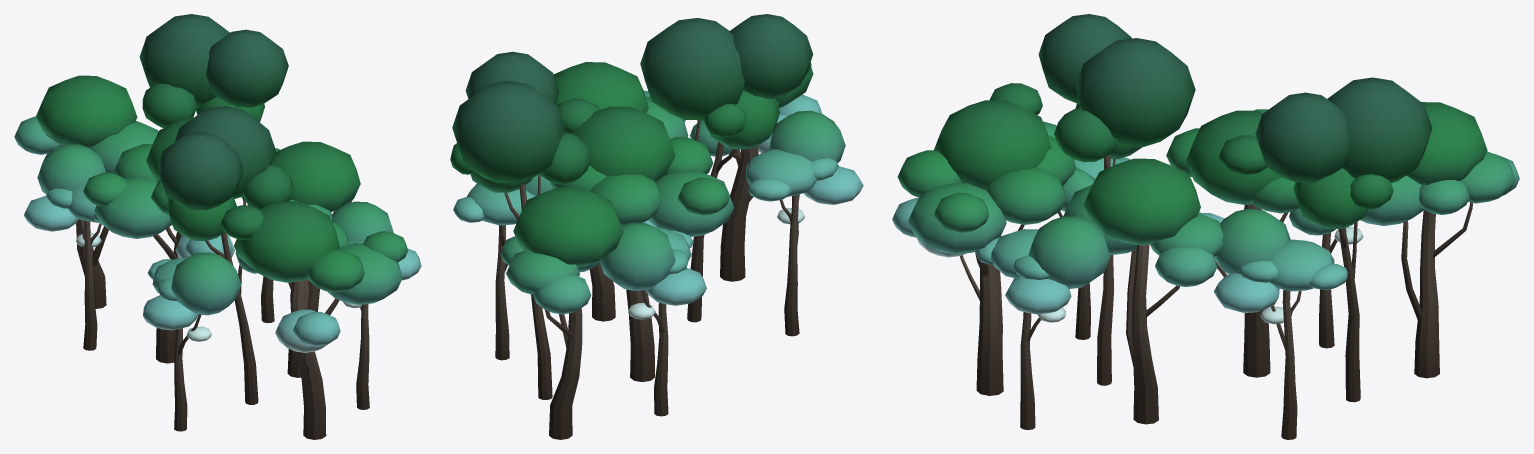
Rendered from SM_Env_treeline.fbx.
The picture shows the model from 3 angles, left to right: view 1: azimuth 30°, elevation 25°; view 2: azimuth 150°, elevation 25°; view 3: azimuth 270°, elevation 25°; orthographic projection. The views are drawn at different scales.
Visible parts, largest first — view 1: leaves, treeTrunks; view 2: leaves, treeTrunks; view 3: leaves, treeTrunks.
Part boxes in pixels (left/top/right/bottom): leaves: left=14, top=14, right=421, bottom=352; treeTrunks: left=76, top=196, right=369, bottom=439; leaves: left=450, top=14, right=863, bottom=319; treeTrunks: left=495, top=120, right=799, bottom=439; leaves: left=892, top=14, right=1519, bottom=324; treeTrunks: left=960, top=155, right=1472, bottom=439.
Bounding box in the file's own units: 2461 × 2512 × 4333.
